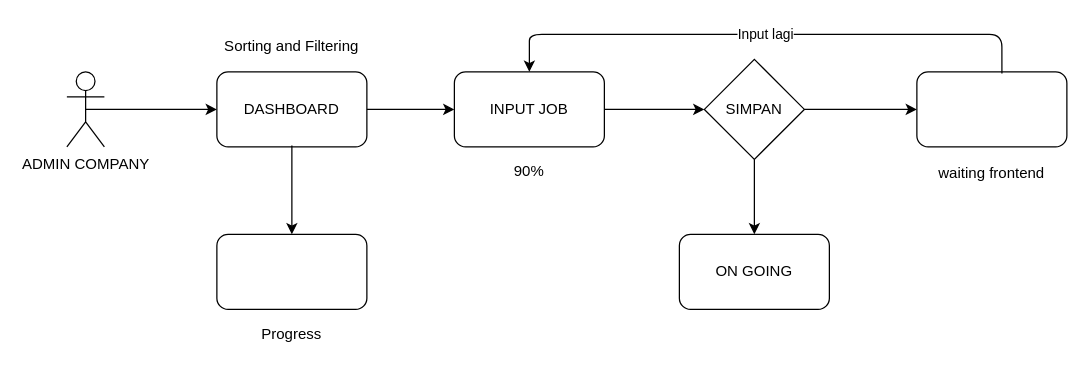
This 1089x368 diagram has some shape labels left out. The box of each missing label's shape, as (x1, y1, x2, y2) in pixels:
DRAF: (916, 71, 1067, 147)
LIST OF CANDIDATE: (216, 233, 367, 309)
